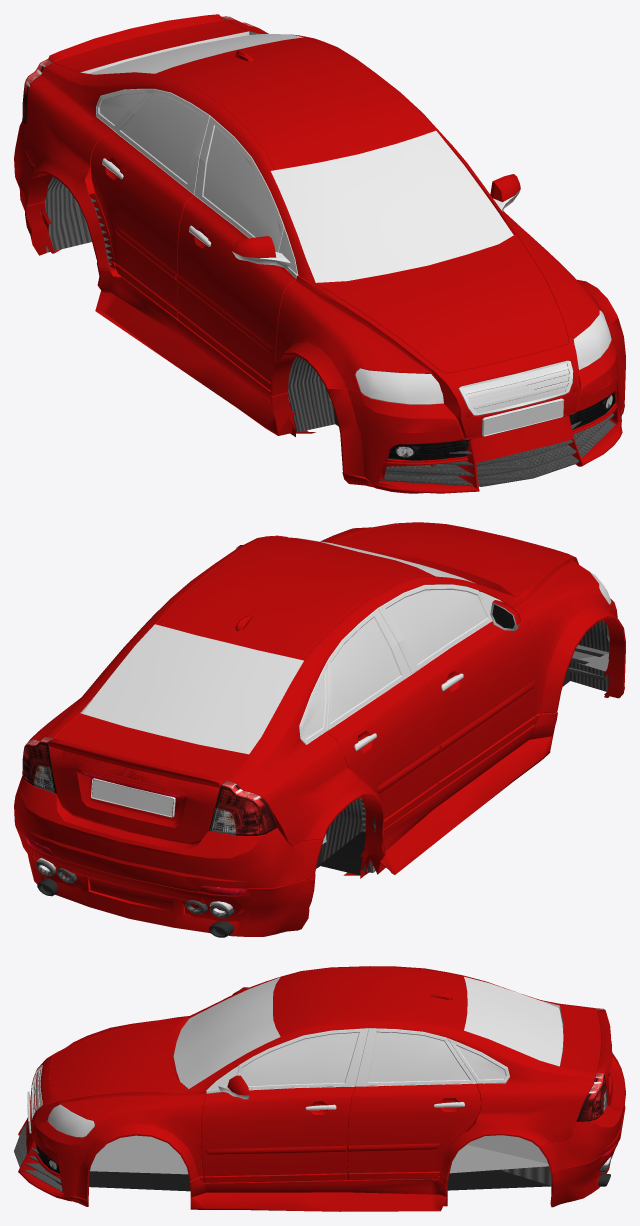
File: Admiral.fbx
3 renders of one model, top to bottom at view 1: azimuth 30°, elevation 25°; view 2: azimuth 150°, elevation 25°; view 3: azimuth 270°, elevation 25°, orthographic. The views are drawn at different scales.
Parts seen in each view (by area): view 1: kit03_body, kit04_body, window, body, kit03_objects, static_objects, lights_glass, radiator_grid, front_down_grid, kit02_body; view 2: kit03_body, kit04_body, window, body, static_objects, rear_lights, kit03_objects, kit01_body, kit01_objects, kit02_body, rear_lights_add, standart_kit_objects (+1 smaller); view 3: kit03_body, window, kit04_body, body, standart_kit_objects, static_objects, kit01_objects, kit03_objects, lights_glass, rear_lights, kit01_body, radiator_grid.
Part boxes in pixels (box(x1,y1,x2,y2)): kit03_body: box(14, 14, 622, 493); kit04_body: box(14, 29, 625, 493); window: box(89, 34, 513, 282); body: box(41, 14, 617, 466); kit03_objects: box(40, 176, 615, 486); static_objects: box(80, 31, 568, 436); lights_glass: box(355, 310, 611, 404); radiator_grid: box(458, 360, 573, 415); front_down_grid: box(388, 392, 615, 460); kit02_body: box(37, 115, 619, 493); kit03_body: box(14, 522, 617, 936); kit04_body: box(120, 537, 625, 936); window: box(83, 536, 487, 754); body: box(21, 522, 609, 907); static_objects: box(80, 547, 519, 817); rear_lights: box(22, 737, 276, 835); kit03_objects: box(36, 620, 609, 918); kit01_body: box(24, 598, 612, 936); kit01_objects: box(37, 604, 609, 937); kit02_body: box(89, 596, 613, 927); rear_lights_add: box(24, 772, 246, 895); standart_kit_objects: box(37, 645, 609, 913); kit03_body: box(18, 966, 625, 1207); window: box(173, 976, 563, 1088); kit04_body: box(19, 966, 622, 1211); body: box(30, 980, 625, 1190); standart_kit_objects: box(90, 1135, 610, 1174); static_objects: box(27, 987, 563, 1133); kit01_objects: box(89, 1170, 610, 1191); kit03_objects: box(14, 1102, 607, 1191); lights_glass: box(47, 1045, 94, 1137); rear_lights: box(576, 1008, 607, 1121); kit01_body: box(30, 993, 620, 1206); radiator_grid: box(31, 1065, 42, 1119).
Bounding box in the file's own units: 1.95 × 1.48 × 4.66.
